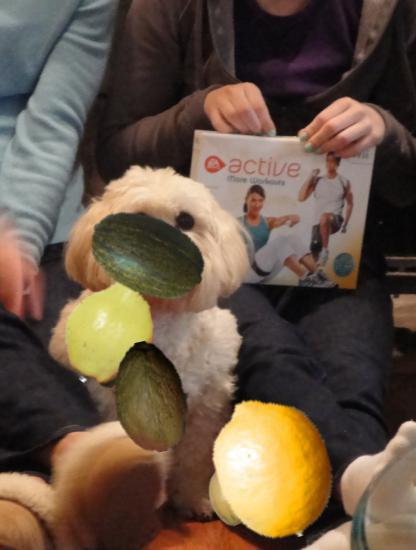Lemon: (200, 393, 348, 541)
Melon: (87, 195, 207, 315)
Papaya: (96, 341, 208, 453)
Pepino: (200, 468, 258, 526)
Quince: (54, 277, 167, 390)
